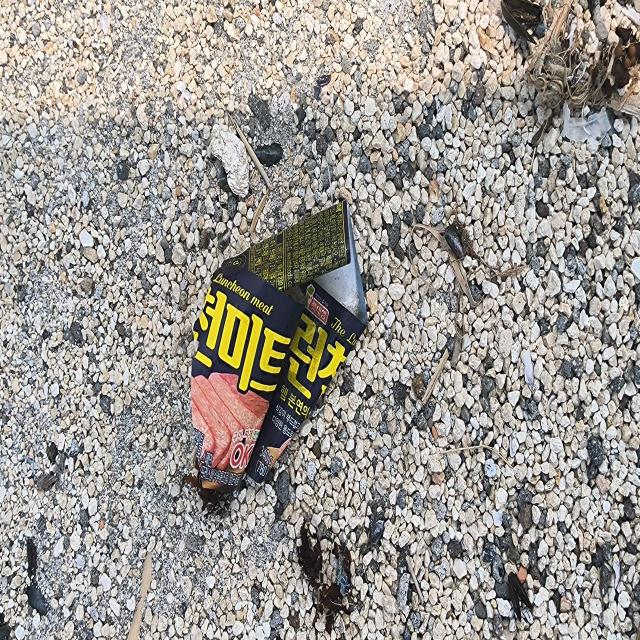plastic_waste: (190, 203, 370, 499)
